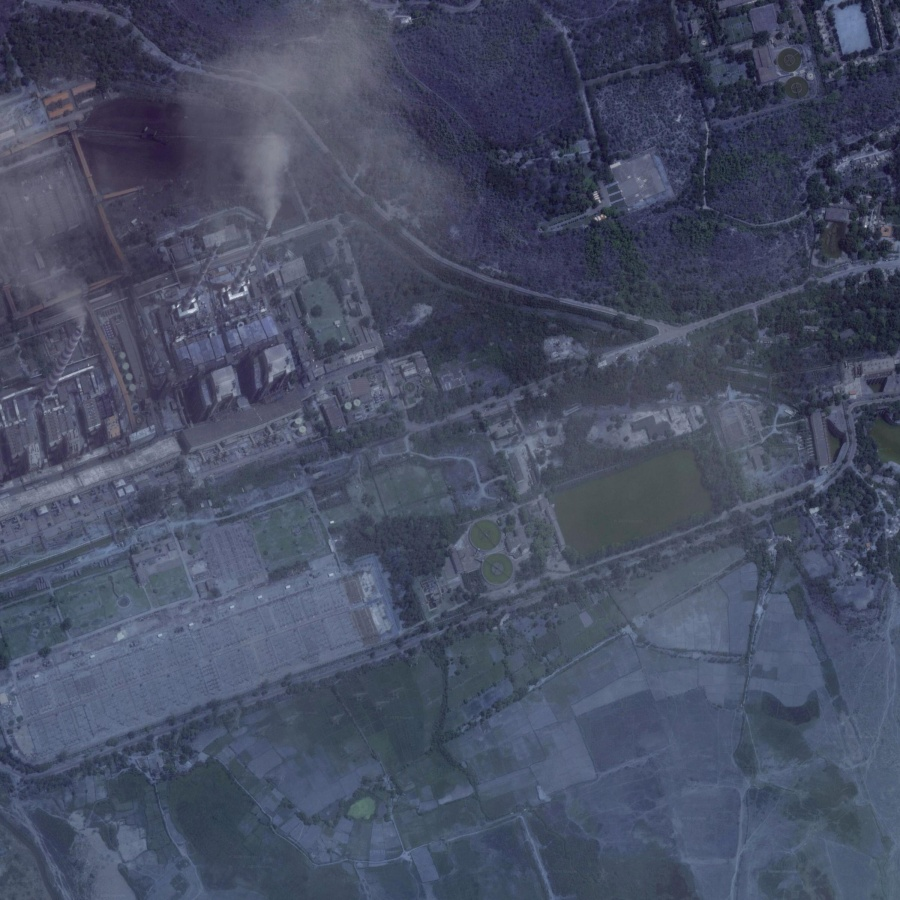PowerPlant: (539, 427, 721, 575)
